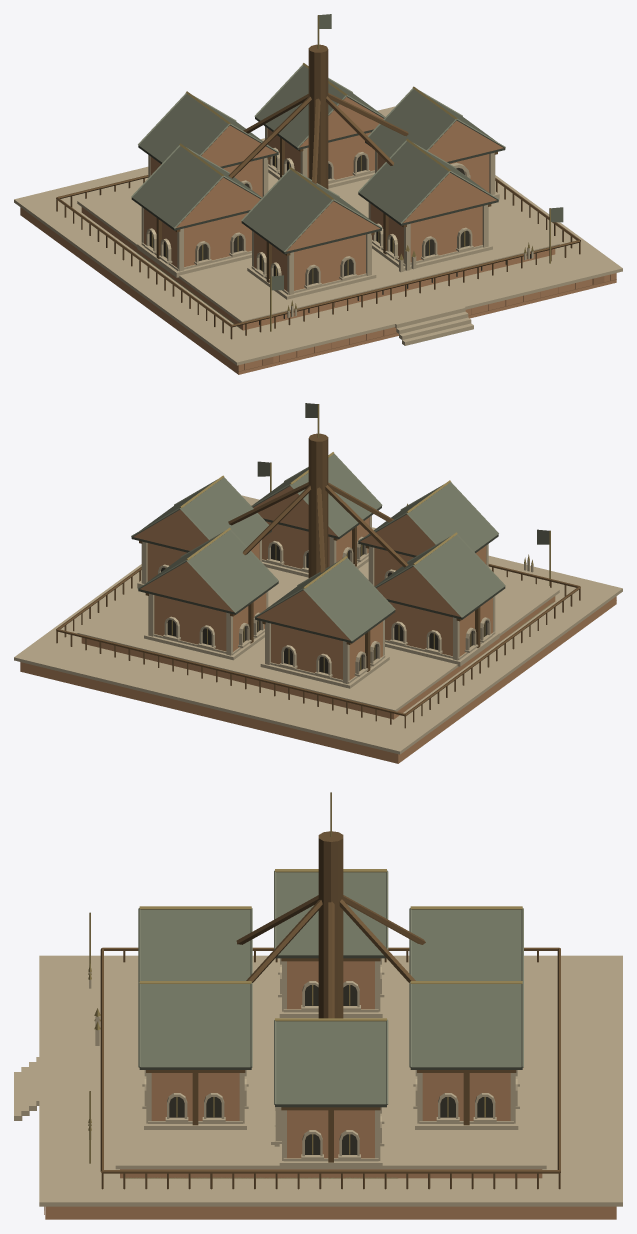
Rendered from steppe.glb.
3 views of the same model, one above another, from view 1: azimuth 30°, elevation 25°; view 2: azimuth 150°, elevation 25°; view 3: azimuth 270°, elevation 25° (orthographic). The views are drawn at different scales.
Parts seen in each view (by area): view 1: standard-court, standard-court-roof, precinct-base, inhabited-detail; view 2: standard-court, standard-court-roof, precinct-base, inhabited-detail; view 3: standard-court, precinct-base, standard-court-roof, inhabited-detail.
Boxes of the visible parts, <box> form: standard-court: <box>56,14,580,339</box>; standard-court-roof: <box>131,63,505,254</box>; precinct-base: <box>14,106,622,374</box>; inhabited-detail: <box>239,207,616,371</box>; standard-court: <box>56,403,580,728</box>; standard-court-roof: <box>131,452,505,643</box>; precinct-base: <box>14,495,622,763</box>; inhabited-detail: <box>257,461,550,585</box>; standard-court: <box>94,792,560,1189</box>; precinct-base: <box>39,955,622,1219</box>; standard-court-roof: <box>138,869,523,1107</box>; inhabited-detail: <box>14,912,91,1214</box>.
Bounding box in the file's own units: 23.5 × 13.6 × 24.52.
